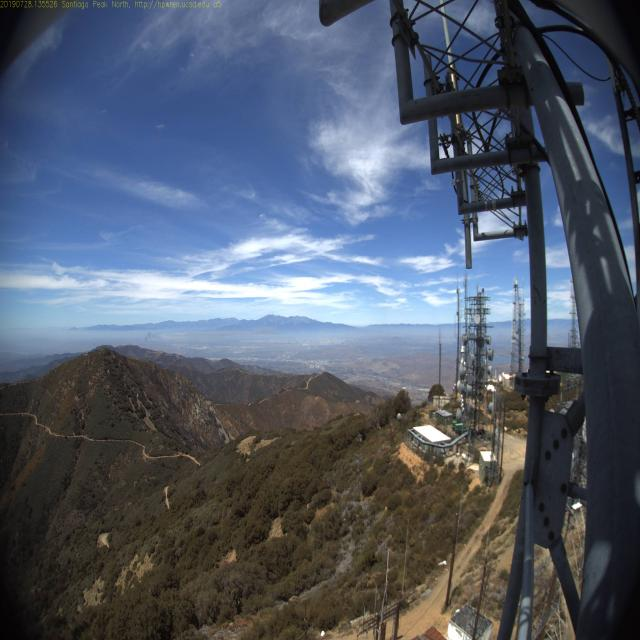smoke: (139, 324, 158, 350)
